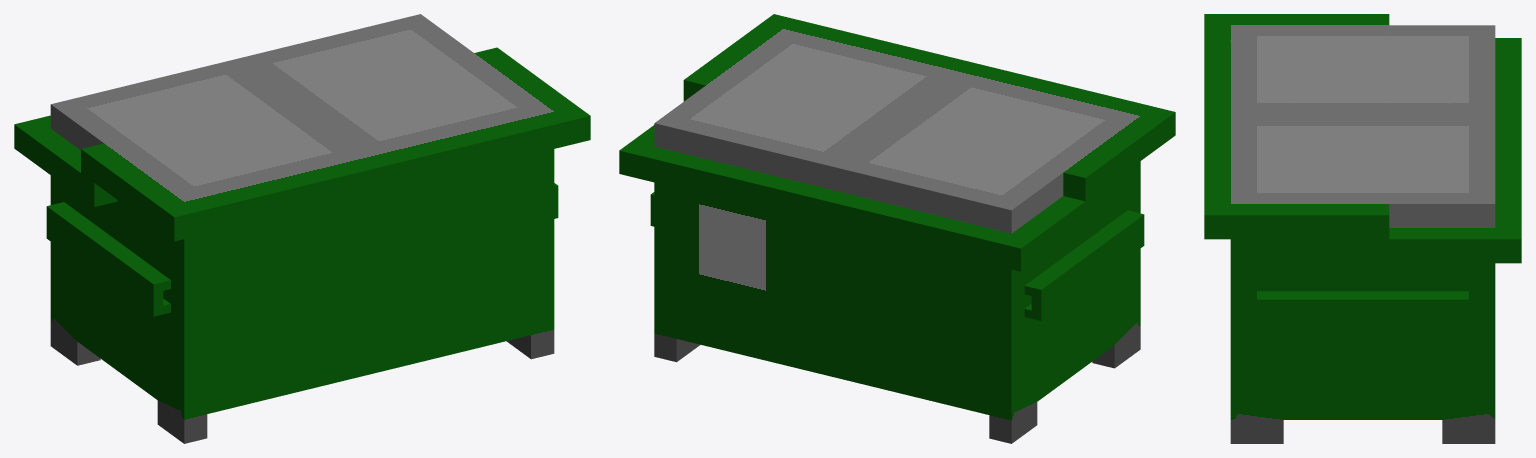
The model's file is obj_trashcan4.FBX.
3 renders of one model, left to right at view 1: azimuth 30°, elevation 25°; view 2: azimuth 150°, elevation 25°; view 3: azimuth 270°, elevation 25°, orthographic. The views are drawn at different scales.
Visible parts, largest first — view 1: obj_trashcan4; view 2: obj_trashcan4; view 3: obj_trashcan4.
Boxes of the visible parts, bbox=[...] form: obj_trashcan4: bbox=[14, 14, 590, 443]; obj_trashcan4: bbox=[619, 14, 1175, 443]; obj_trashcan4: bbox=[1204, 14, 1521, 443].
Size of the model in its own units: 70.87 by 39.37 by 47.24.
